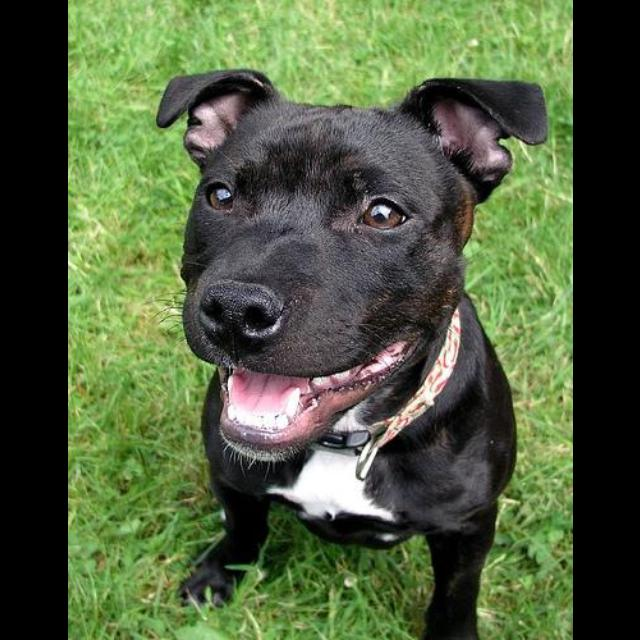staffford: (153, 68, 549, 640)
